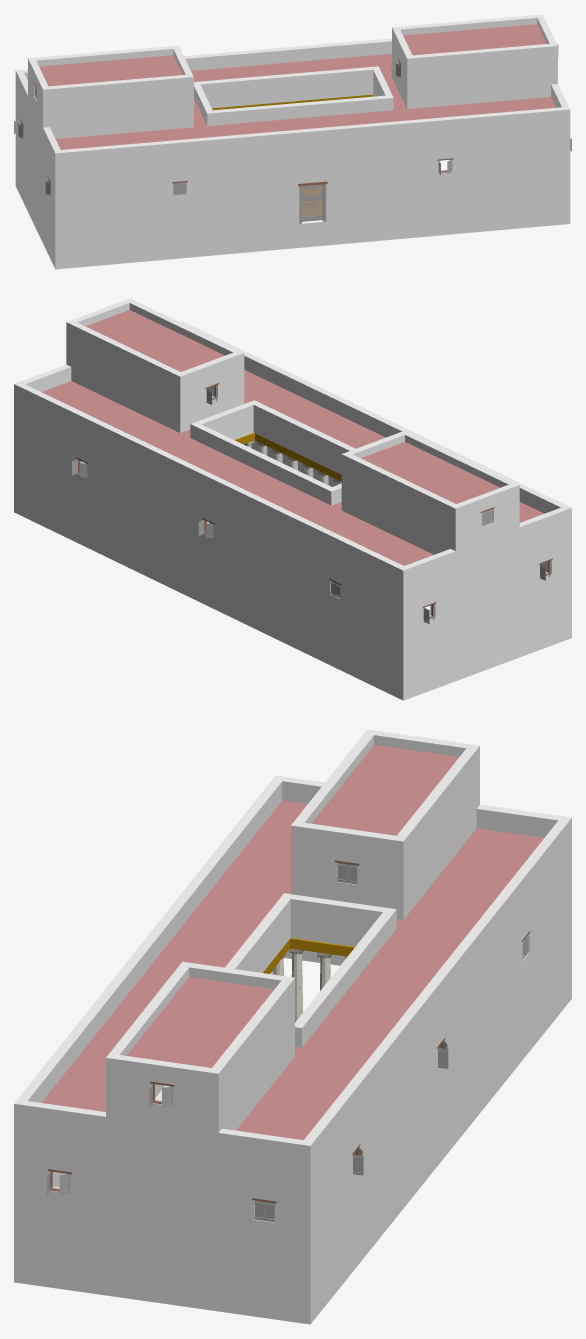
The model's file is LOD_Block_1_9.glb.
3 views of the same model, one above another, from view 1: azimuth 30°, elevation 25°; view 2: azimuth 150°, elevation 25°; view 3: azimuth 270°, elevation 25° (orthographic). The views are drawn at different scales.
Visible parts, largest first — view 1: _1.2689; view 2: _1.2689; view 3: _1.2689.
Part boxes in pixels (bbox=[...]): _1.2689: bbox=[14, 14, 571, 269]; _1.2689: bbox=[14, 298, 571, 700]; _1.2689: bbox=[14, 729, 571, 1324].
Size of the model in its own units: 40.84 by 12.35 by 25.99.
21 materials, 2 textured.
